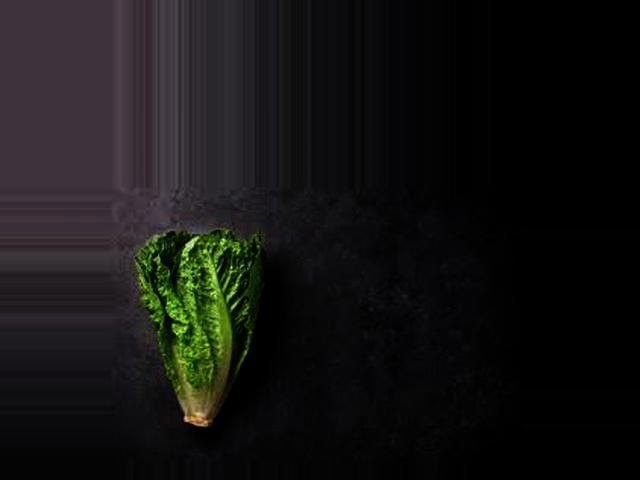lettuce: (138, 233, 268, 412)
